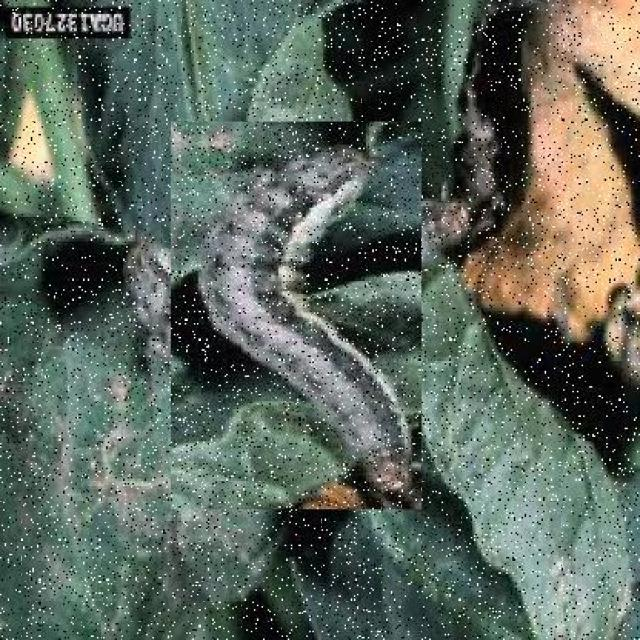Plaga: (136, 156, 457, 477)
